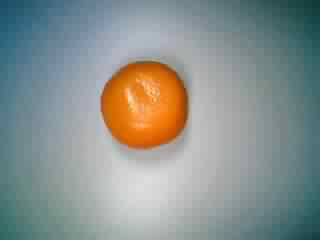orange: (98, 56, 194, 152)
